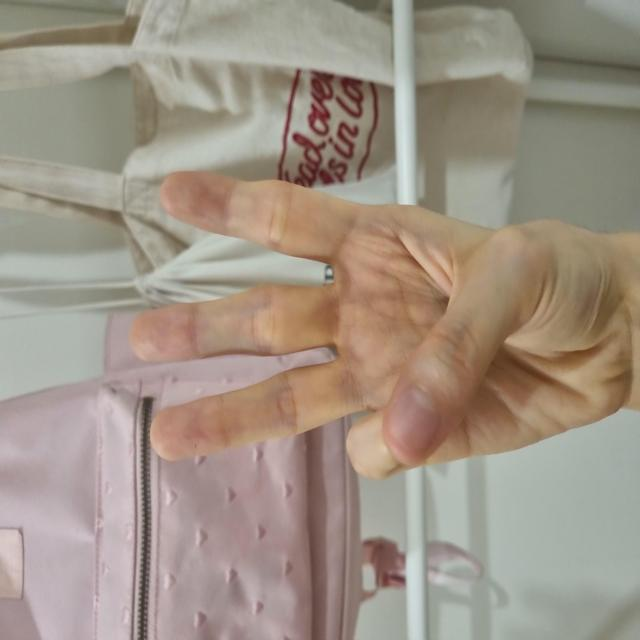W: (160, 128, 471, 624)
